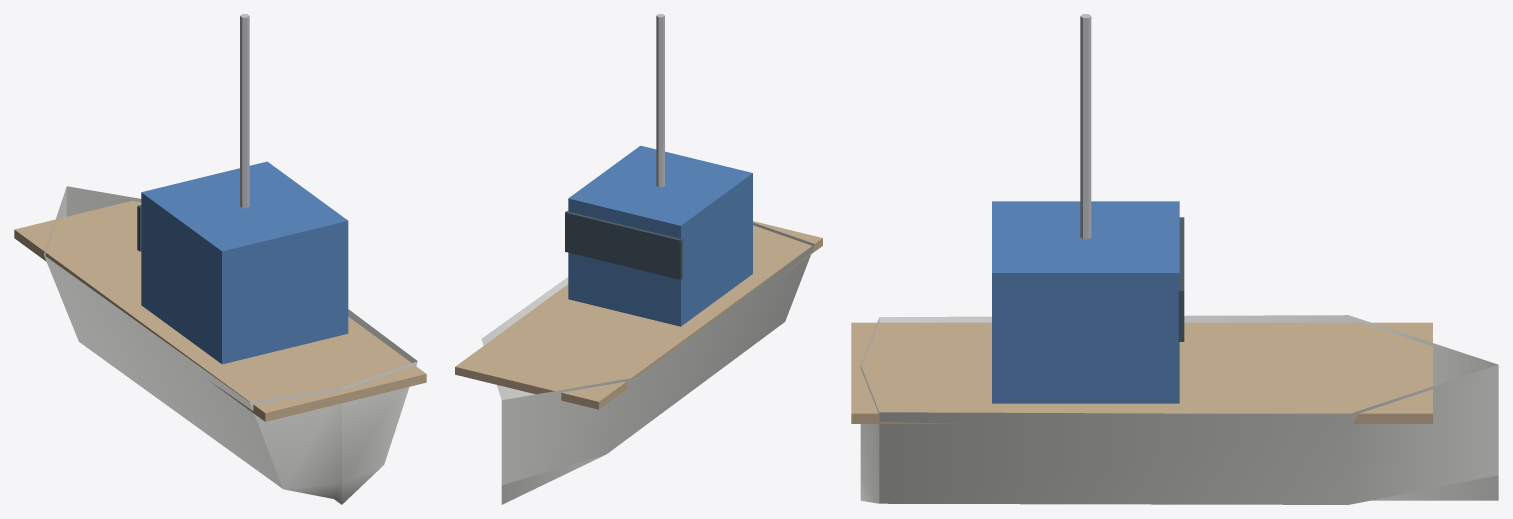
Rendered from boat.glb.
3 views of the same model, side by side, from view 1: azimuth 30°, elevation 25°; view 2: azimuth 150°, elevation 25°; view 3: azimuth 270°, elevation 25° (orthographic). The views are drawn at different scales.
Visible parts, largest first — view 1: boat; view 2: boat; view 3: boat.
Part boxes in pixels (bbox=[...]): boat: bbox=[14, 14, 426, 504]; boat: bbox=[455, 14, 822, 504]; boat: bbox=[851, 14, 1498, 504].
Size of the model in its own units: 2.5 by 5.7 by 6.9.
